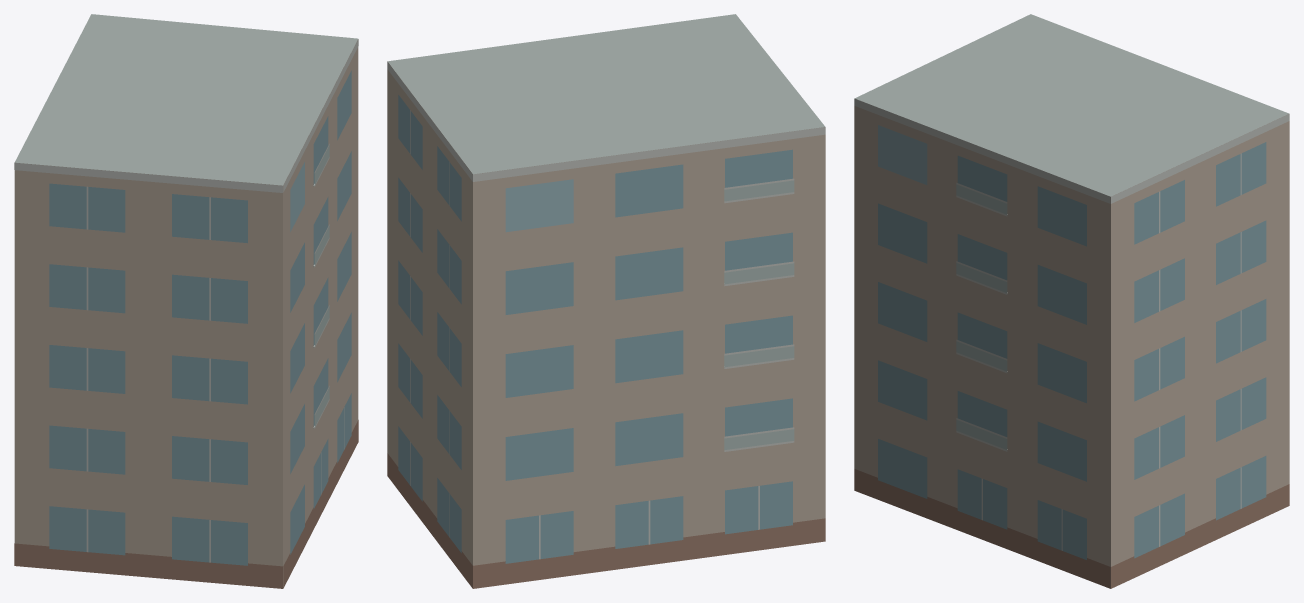
File: survey-upis-32712530.glb
3 renders of one model, left to right at view 1: azimuth 30°, elevation 25°; view 2: azimuth 150°, elevation 25°; view 3: azimuth 270°, elevation 25°, orthographic. The views are drawn at different scales.
Visible parts, largest first — view 1: survey-upis-32712530.tmp; view 2: survey-upis-32712530.tmp; view 3: survey-upis-32712530.tmp.
Boxes of the visible parts, x1,y1,x2,y2 form: survey-upis-32712530.tmp: (14,14,358,588); survey-upis-32712530.tmp: (387,14,825,588); survey-upis-32712530.tmp: (854,14,1289,588).
Size of the model in its own units: 13.1 by 13.1 by 13.18.
